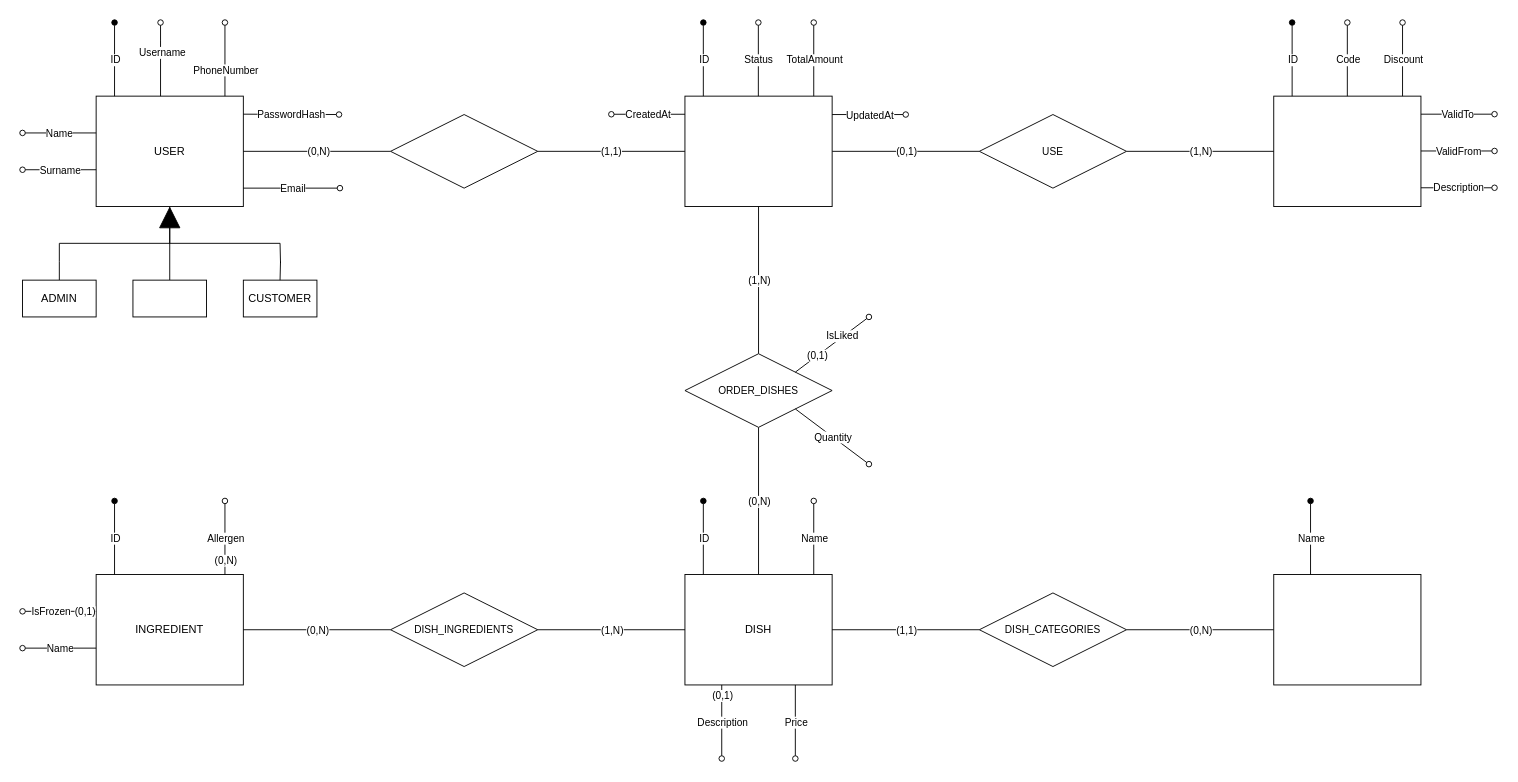
Some shapes in this 1518 by 782 pixel diagram are drawn without their labels. The shapes that lost their labels are listed below. From the top down, each one's centre as x and y in pixels, then its label:
At (x=464, y=151): "PLACES".
At (x=758, y=151): "ORDER".
At (x=1347, y=151): "PROMOTION".
At (x=169, y=298): "STAFF".
At (x=1347, y=629): "CATEGORY".
